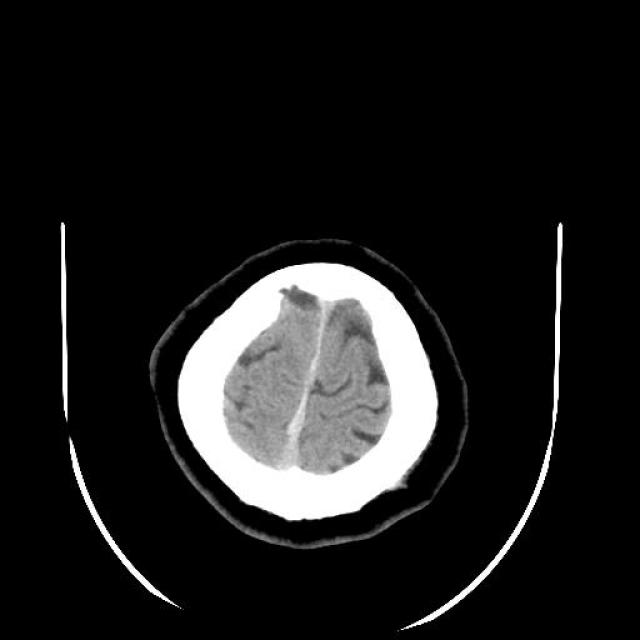Subdural: (270, 296, 350, 482)
